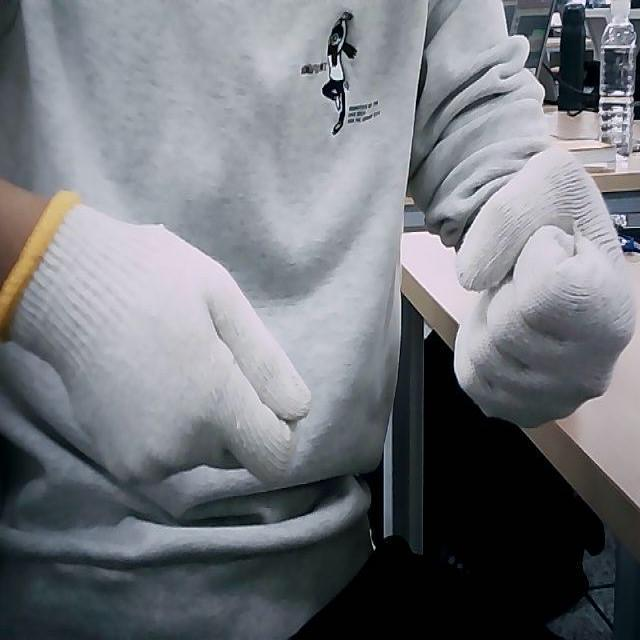gloves: (0, 192, 314, 480), (453, 142, 638, 428)
